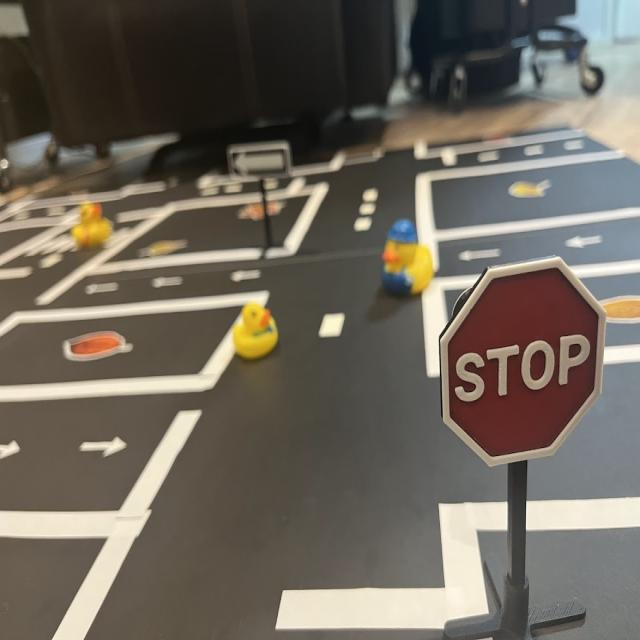duck_regular: (234, 302, 281, 363)
duck_specialty: (379, 217, 438, 301), (74, 199, 115, 253)
road_crosswalk: (22, 225, 142, 257)
road_oneway: (73, 430, 134, 462), (456, 247, 508, 264), (565, 235, 613, 251), (1, 436, 26, 466), (151, 274, 191, 290), (86, 282, 126, 297), (232, 268, 262, 284)
sign_oneway_left: (225, 145, 297, 182)
sign_stop: (442, 250, 610, 471)
